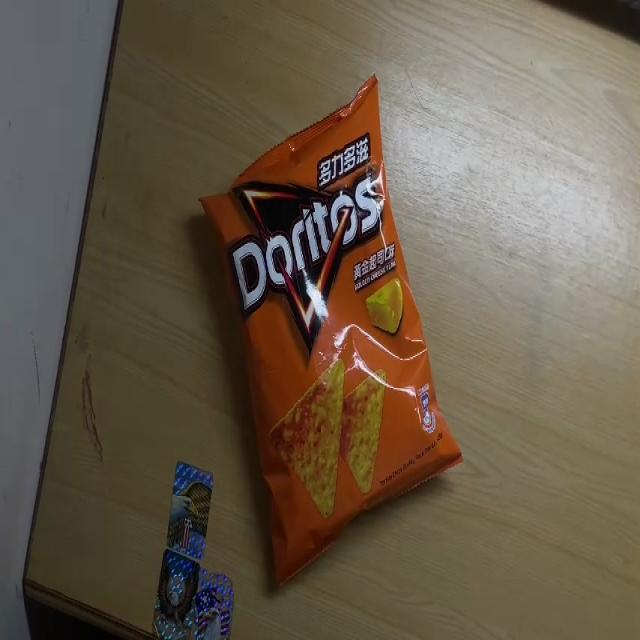Doritos: (198, 74, 464, 591)
